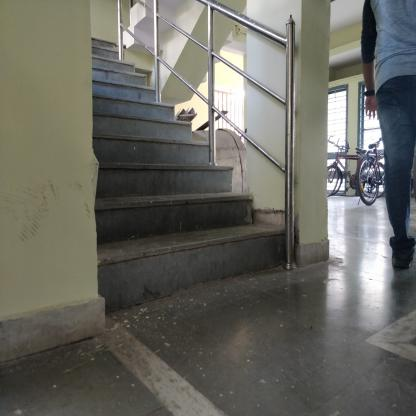stairs: (111, 120, 189, 304)
